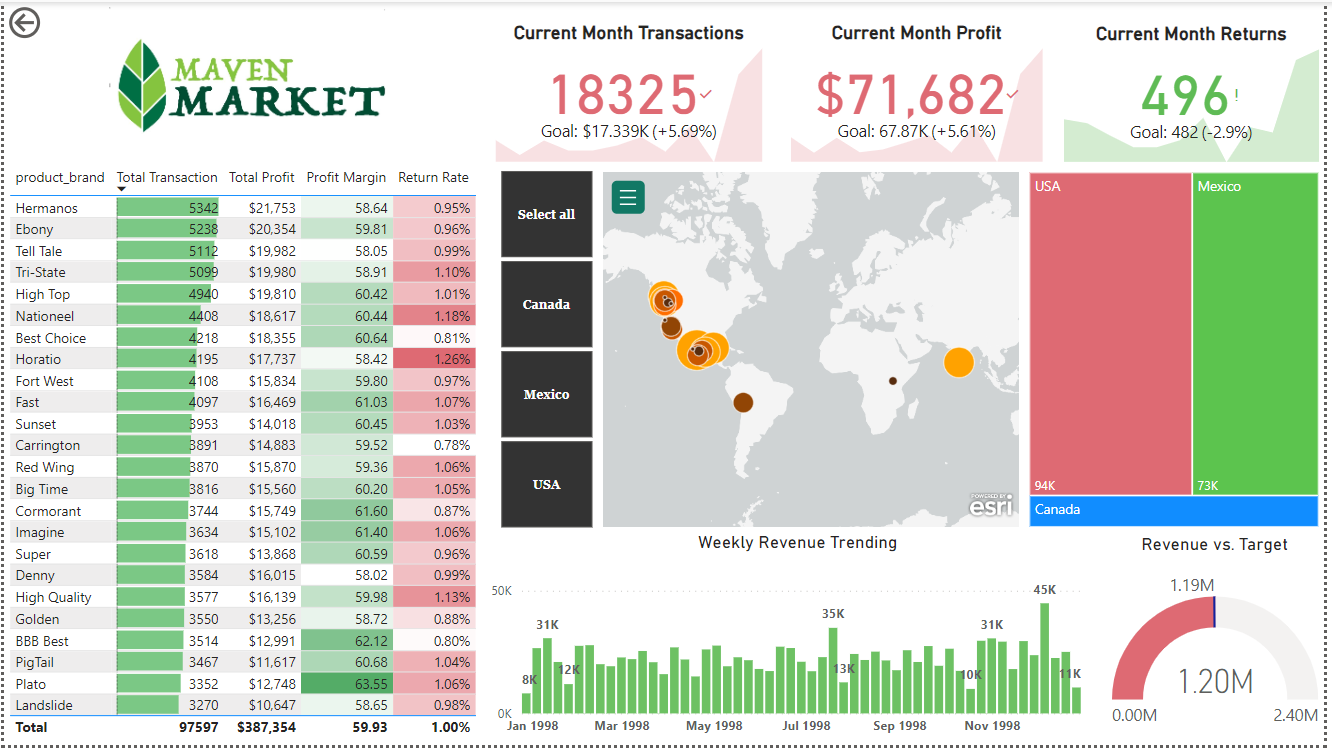

Layout of this report page (visuals, bound fields, positions):
{"tool":"powerbi","page":{"name":"Page 1","canvas":[1280,720],"ordinal":0},"visuals":[{"type":"image","box":[9.7,0,450.8,160.5],"z":0},{"type":"tableEx","fields":{"Values":["Products.product_brand","Transaction_Data.Total Transaction","Transaction_Data.Total Profit","Transaction_Data.Profit Margin","Return_Data.Return Rate"]},"box":[0,153.5,487.1,567.2],"z":1000},{"type":"actionButton","box":[0,0,100,40],"z":2000},{"type":"kpi","title":"Current Month Transactions","fields":{"Indicator":["Transaction_Data.Total Transaction"],"TrendLine":["Calendar.Start of Month"],"Goal":["Transaction_Data.Last Month Transactions"]},"box":[471.3,18.9,269.1,141.1],"z":3000},{"type":"kpi","title":"Current Month Profit","fields":{"TrendLine":["Calendar.Start of Month"],"Indicator":["Transaction_Data.Total Profit"],"Goal":["Transaction_Data.Last Month Profit"]},"box":[757.8,18.9,254.5,141.1],"z":4000},{"type":"kpi","title":"Current Month Returns","fields":{"Goal":["Return_Data.Total Returns"],"TrendLine":["Calendar.Start of Month"],"Indicator":["Calendar.Last Month Returns"]},"box":[1022.5,20.4,257.5,139.6],"z":5000},{"type":"slicer","fields":{"Values":["Stores.store_country"]},"box":[460.5,160.5,128.1,353.5],"z":6000},{"type":"treemap","fields":{"Group":["Stores.store_country","Stores.store_state","Stores.store_city"],"Values":["Transaction_Data.Total Transaction"]},"box":[989.2,160.5,290.3,353.5],"z":7000},{"type":"columnChart","title":"Weekly Revenue Trending","fields":{"Y":["Transaction_Data.Total Revenue"],"Category":["Calendar.Start of Week"]},"box":[471.9,514.1,596.8,206],"z":8000},{"type":"gauge","title":"Revenue vs. Target","fields":{"Y":["Transaction_Data.Total Revenue"],"TargetValue":["Transaction_Data.Revenue Target"]},"box":[1069,515,210,203],"z":9000},{"type":"esriVisual","fields":{"Location":["Stores.store_city"],"Color":["Transaction_Data.Total Transaction"],"Size":["Transaction_Data.Total Transaction"]},"box":[575.4,160.5,413.4,354.3],"z":10000}]}

Visuals, with their boxes in screenshot pixels (x1, y1, x2, y2), scaled from the page's 1280x720 canvas onto the 1332x751 screenshot:
image: crop(10, 0, 479, 167)
tableEx - Products.product_brand x Transaction_Data.Total Transaction: crop(0, 160, 507, 750)
actionButton: crop(0, 0, 104, 42)
"Current Month Transactions" kpi: crop(490, 20, 770, 167)
"Current Month Profit" kpi: crop(789, 20, 1053, 167)
"Current Month Returns" kpi: crop(1064, 21, 1331, 167)
slicer - Stores.store_country: crop(479, 167, 613, 536)
treemap - Stores.store_country x Stores.store_state: crop(1029, 167, 1331, 536)
"Weekly Revenue Trending" columnChart: crop(491, 536, 1112, 750)
"Revenue vs. Target" gauge: crop(1112, 537, 1331, 749)
esriVisual - Stores.store_city x Transaction_Data.Total Transaction: crop(599, 167, 1029, 537)
